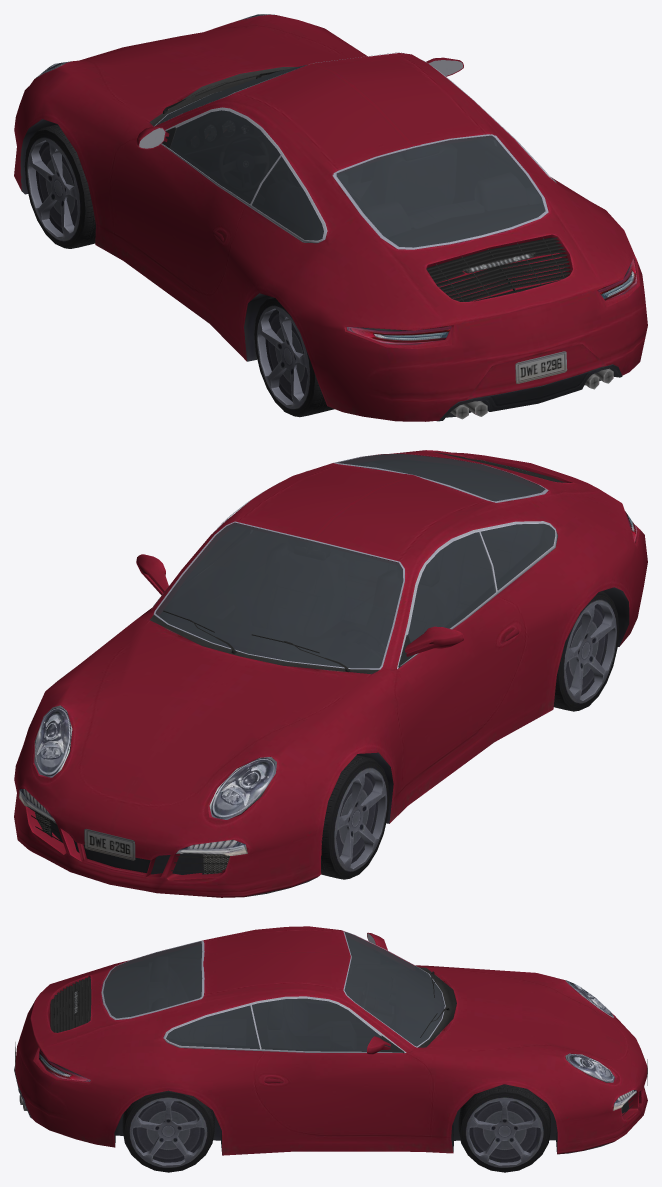
File: Porsche_Carrera.glb
The picture shows the model from 3 angles, top to bottom: view 1: azimuth 30°, elevation 25°; view 2: azimuth 150°, elevation 25°; view 3: azimuth 270°, elevation 25°; orthographic projection. The views are drawn at different scales.
Parts seen in each view (by area): view 1: Porsche_Carrera__LOD4; view 2: Porsche_Carrera__LOD4; view 3: Porsche_Carrera__LOD4.
Part boxes in pixels (x1,y1,x2,y2): Porsche_Carrera__LOD4: [14, 14, 647, 421]; Porsche_Carrera__LOD4: [14, 450, 647, 897]; Porsche_Carrera__LOD4: [14, 926, 647, 1172].
Size of the model in its own units: 2.06 by 1.39 by 4.75.
2 materials, 2 textured.
